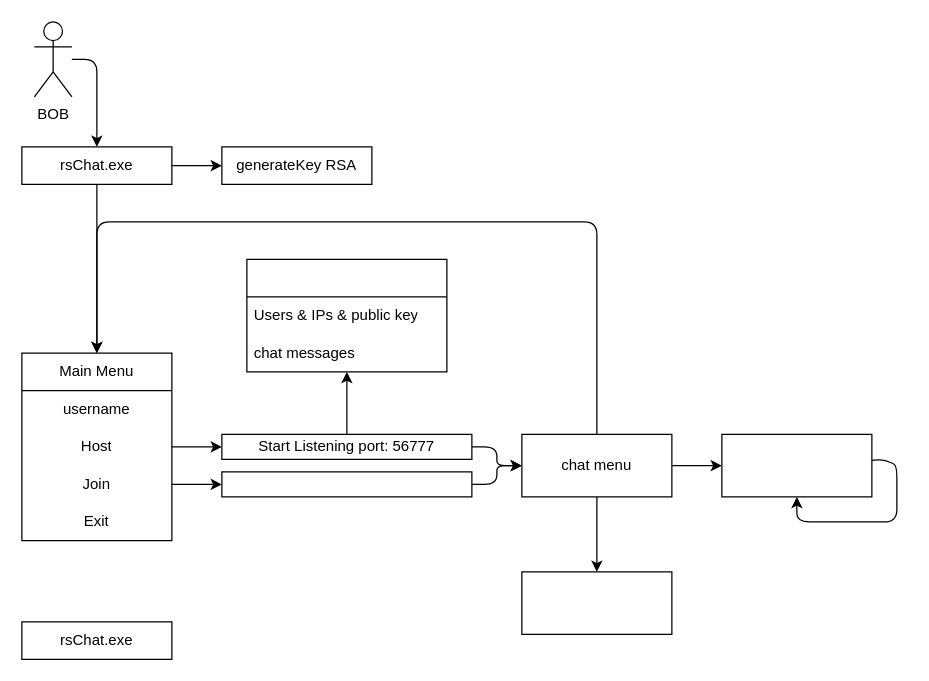
This 929x681 diagram has some shape labels left out. The box of each missing label's shape, as (x1, y1, x2, y2) in pixels:
Connect to {ip:56777}: (221, 471, 472, 497)
send message: (521, 571, 672, 634)
Server: (246, 258, 447, 372)
update messages: (721, 433, 872, 497)
